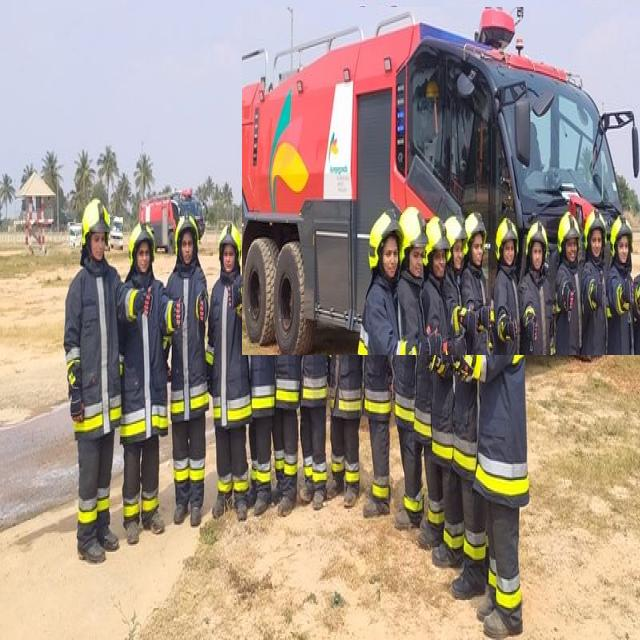car: (110, 217, 122, 252), (70, 224, 81, 248)
emergency: (242, 7, 640, 355), (139, 188, 206, 251), (362, 10, 365, 16)
